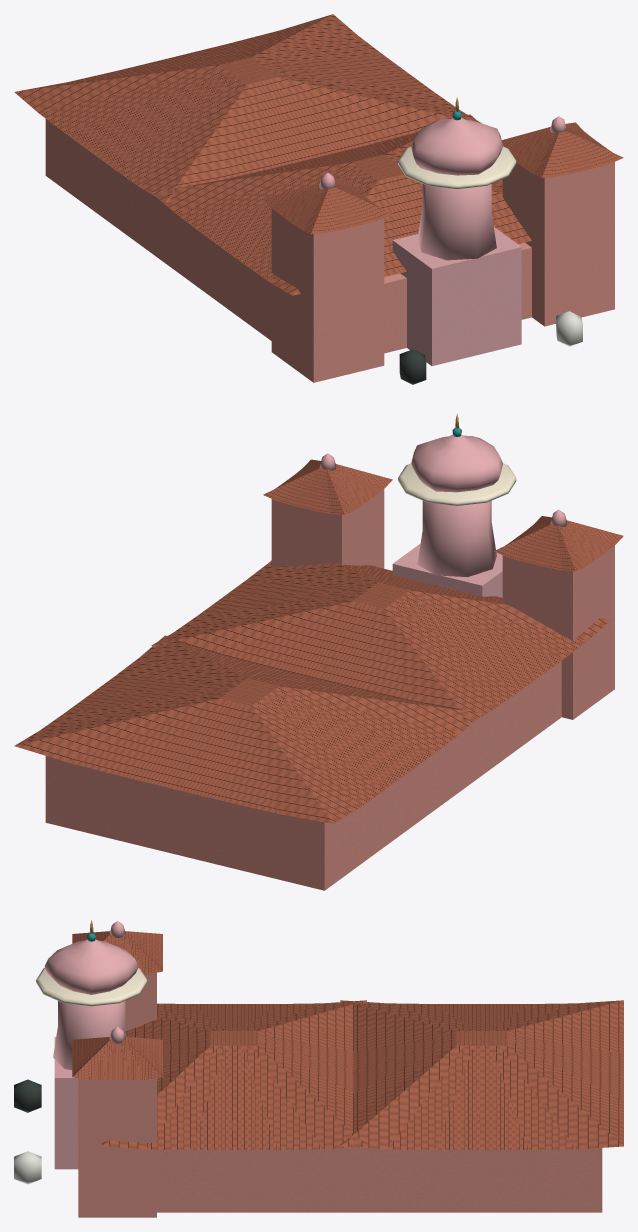
Rendered from tay-an-lod.glb.
The picture shows the model from 3 angles, top to bottom: view 1: azimuth 30°, elevation 25°; view 2: azimuth 150°, elevation 25°; view 3: azimuth 270°, elevation 25°; orthographic projection. The views are drawn at different scales.
Parts seen in each view (by area): view 1: Tây An far silhouette; view 2: Tây An far silhouette; view 3: Tây An far silhouette.
Part boxes in pixels (x1,y1,x2,y2): Tây An far silhouette: (14,14,623,384); Tây An far silhouette: (14,413,623,890); Tây An far silhouette: (14,920,623,1217).
Bounding box in the file's own units: 20.6 × 15.08 × 36.33.
1 material, 1 textured.
